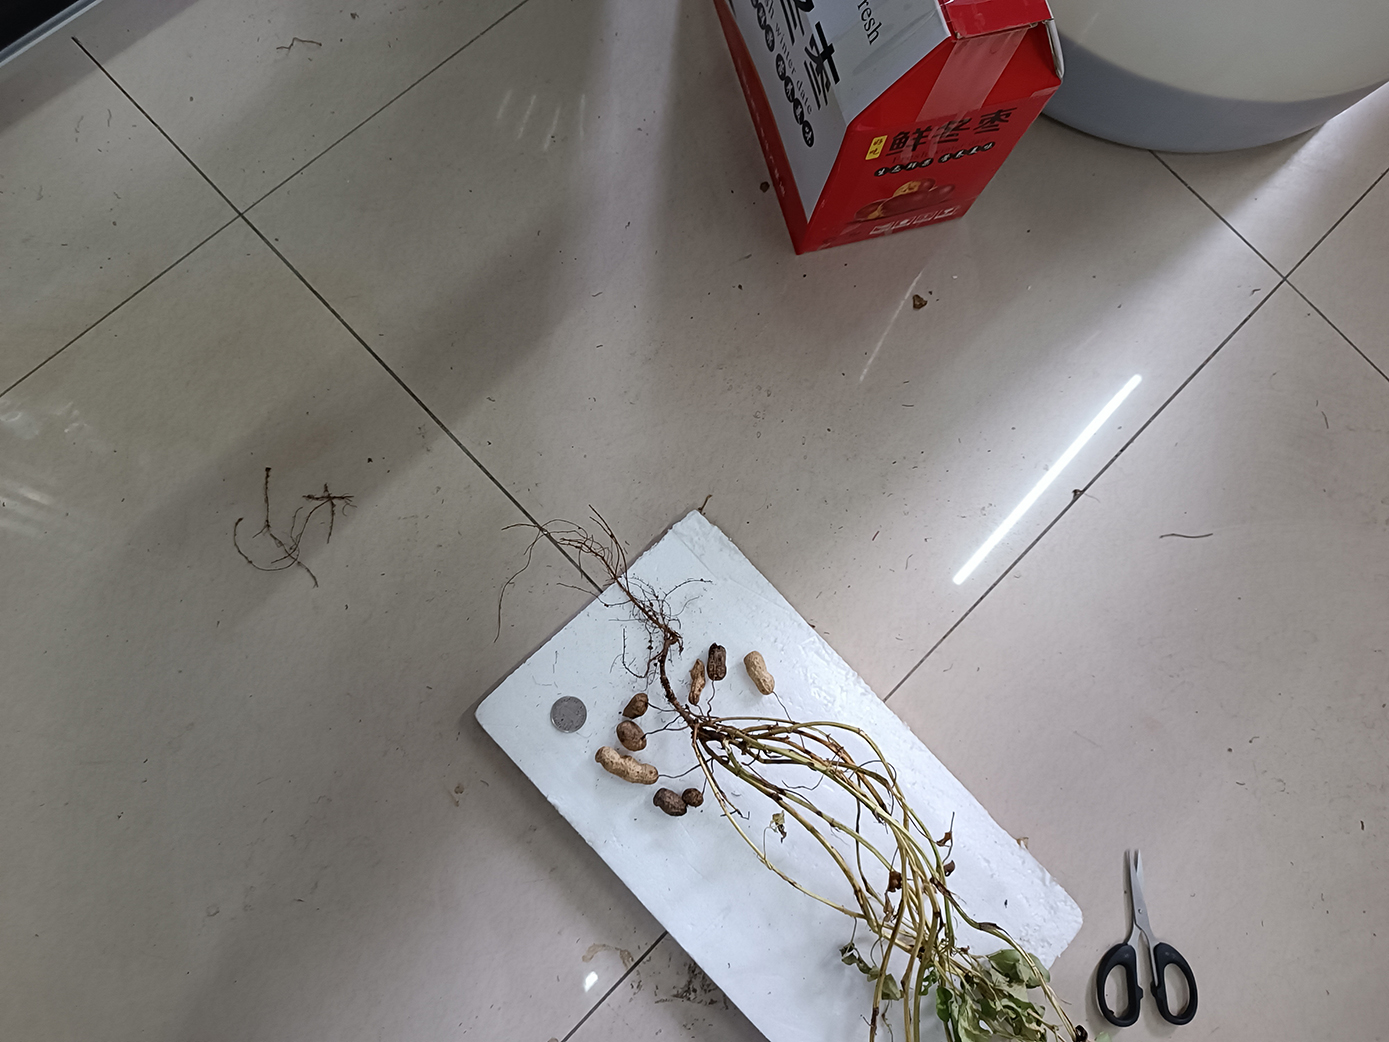h: (595, 746, 658, 785), (744, 651, 775, 695)
l: (616, 720, 648, 752), (653, 788, 687, 815), (688, 659, 706, 704), (622, 692, 649, 718), (709, 642, 727, 680), (682, 788, 703, 808)
